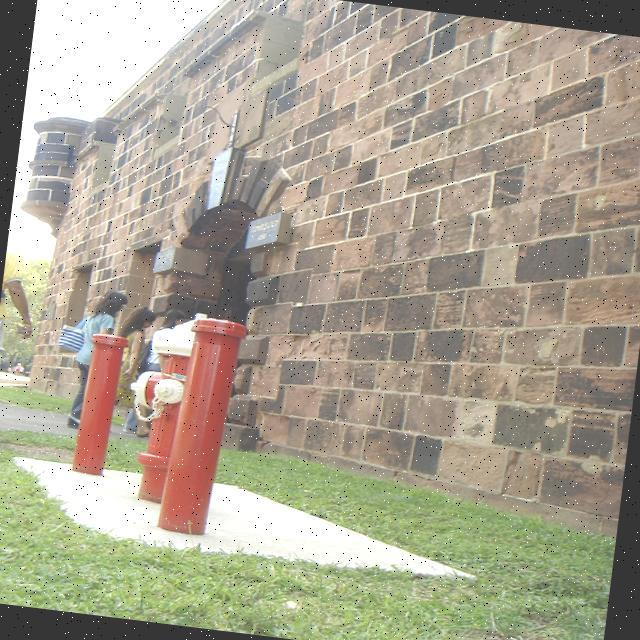fire_hydrant: (114, 312, 187, 502)
